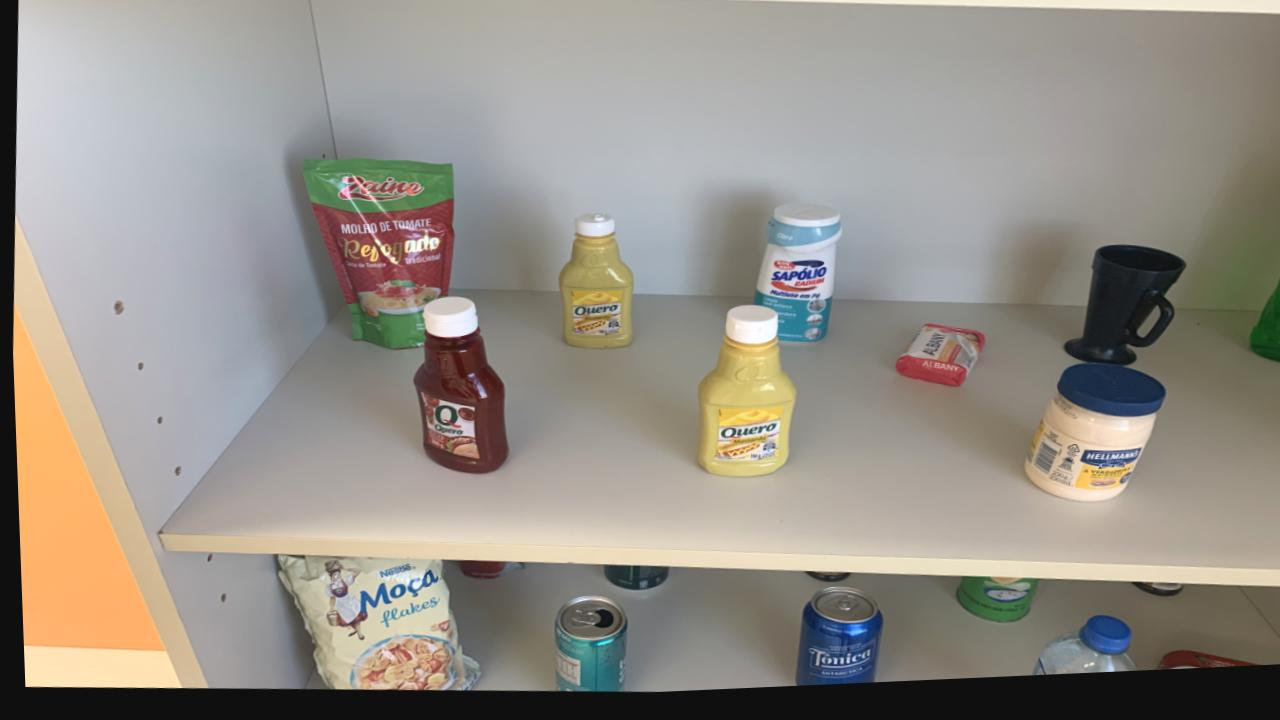Cleaner-Cleanup_Items: (751, 211, 840, 350)
Detergent-Cleanup_Items: (1245, 282, 1280, 375)
English_Sauce-Pantry_Items: (1127, 592, 1177, 607), (800, 579, 845, 590)
Flakes-Snacks: (273, 558, 473, 694)
Guarana_Can-Drinks: (600, 569, 662, 596)
Ketchup-Pantry_Items: (412, 300, 505, 477)
Mayonnaise-Pantry_Items: (1020, 373, 1162, 512)
Mustard-Pantry_Items: (692, 311, 792, 484), (556, 218, 632, 354)
Pringles-Snacks: (952, 585, 1032, 631)
Soap-Cleanup_Items: (892, 333, 981, 396)
Tea-Drinks: (548, 601, 621, 697)
Tomato_Sauce-Pantry_Items: (301, 161, 452, 352), (455, 565, 520, 583)
Tonic-Drinks: (790, 594, 876, 693)
Tuna_Can-Pantry_Items: (1150, 662, 1257, 681)
Water_Bottle-Drinks: (1024, 625, 1133, 685)
